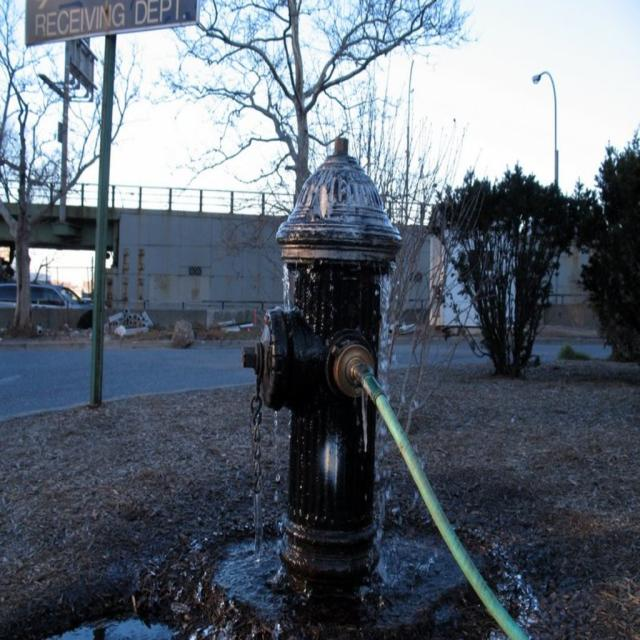fire_hydrant: (243, 134, 402, 600)
